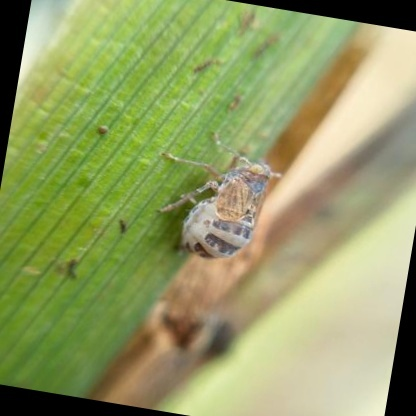Brown_hopper: (130, 97, 307, 289)
